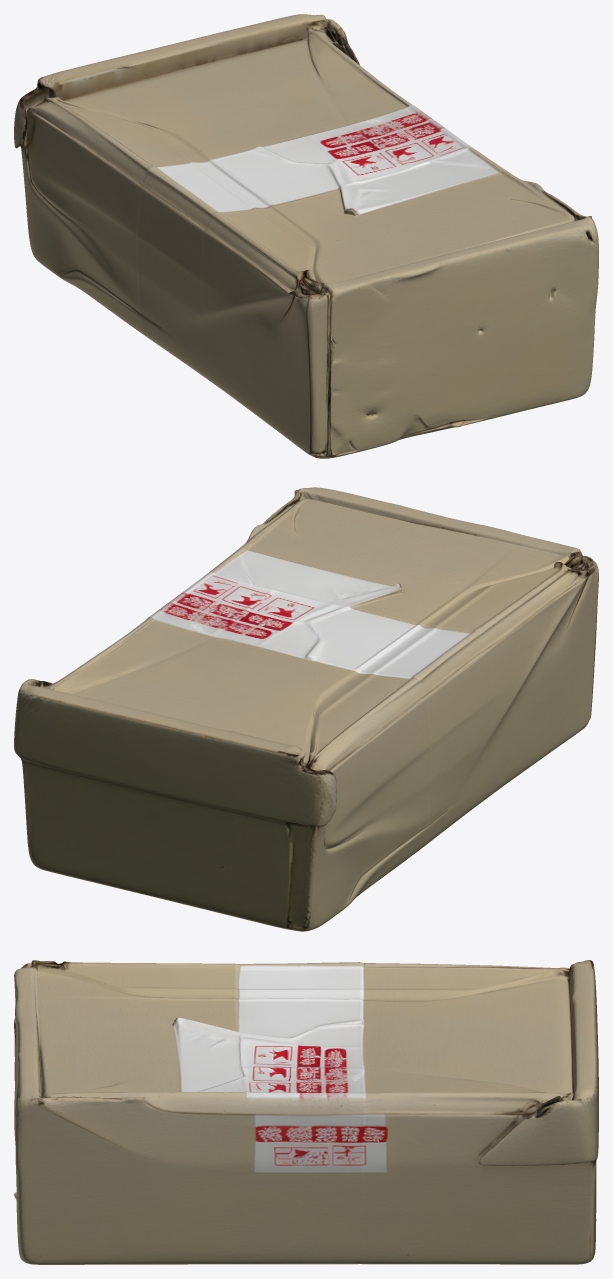
3 views of the same model, one above another, from view 1: azimuth 30°, elevation 25°; view 2: azimuth 150°, elevation 25°; view 3: azimuth 270°, elevation 25° (orthographic).
Parts seen in each view (by area): view 1: node_0; view 2: node_0; view 3: node_0.
Boxes of the visible parts, box(x1,y1,x2,y2) form: node_0: box(14, 14, 598, 458); node_0: box(14, 487, 598, 931); node_0: box(14, 960, 598, 1264).
Size of the model in its own units: 0.6376 by 0.3438 by 1.02.
1 material, 1 textured.
